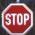Stop sign: (0, 1, 34, 34)
